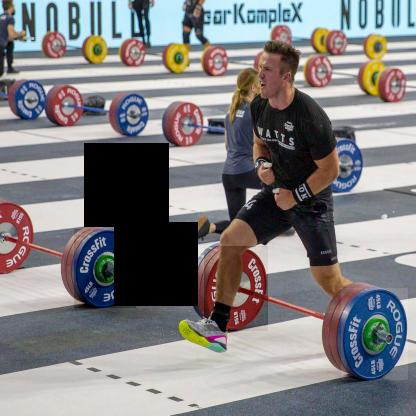barbell: (342, 289, 409, 381), (205, 247, 269, 332), (75, 230, 137, 309)
